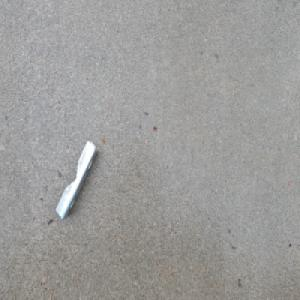ClampPart: (55, 139, 98, 221)
